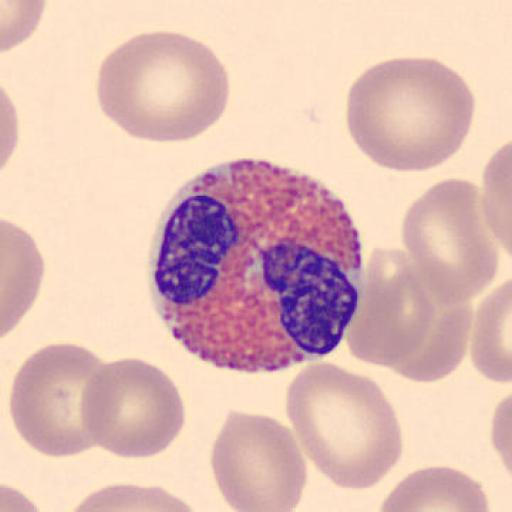RBC: (284, 360, 404, 493), (95, 28, 232, 144), (345, 55, 477, 173), (347, 247, 461, 381), (400, 176, 498, 306), (9, 341, 112, 460), (78, 356, 187, 462), (345, 248, 436, 368), (208, 410, 308, 512), (388, 302, 472, 384), (376, 464, 492, 512), (478, 140, 512, 303), (1, 218, 45, 338), (471, 278, 512, 385), (60, 482, 205, 512), (480, 137, 512, 260), (2, 0, 48, 52), (490, 386, 512, 479), (1, 84, 20, 168), (2, 481, 44, 512)
WBC: (146, 158, 366, 374)
